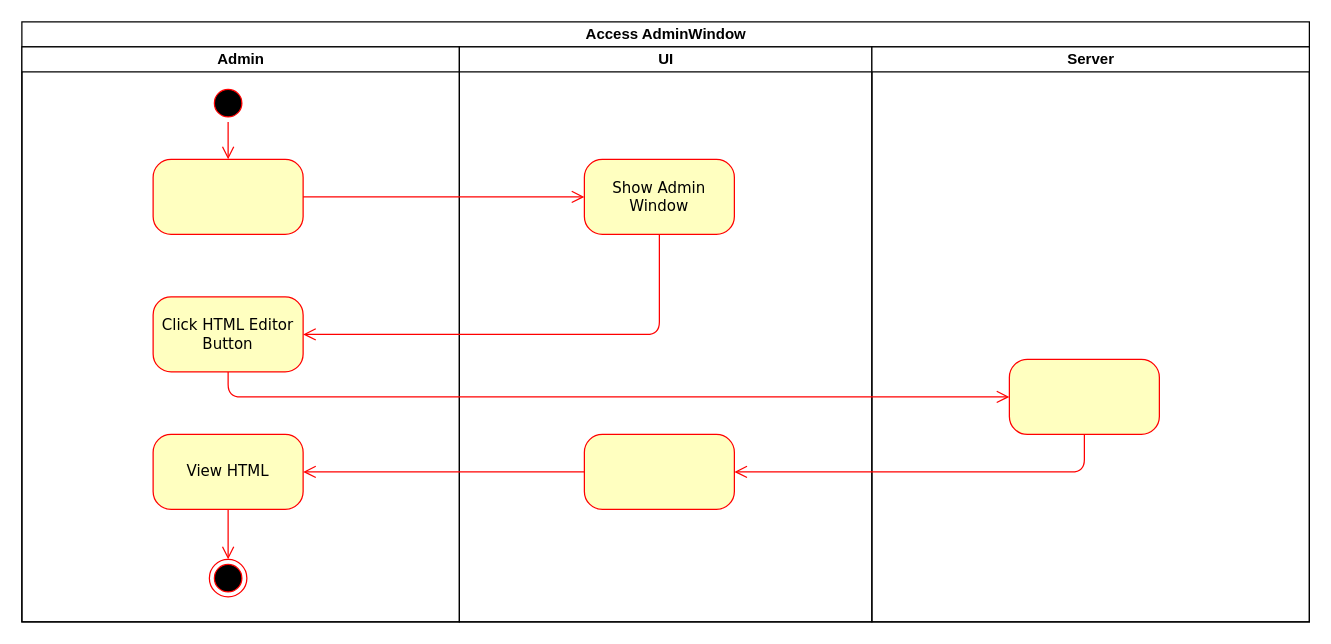
The diagram is 1331 pixels wide and 644 high, and some of its shapes have lost their labels. The box of each missing label's shape, as (x1, y1, x2, y2) in pixels:
Send HTML Source: (1008, 358, 1159, 434)
Show HTML: (583, 433, 734, 509)
View Admin Window: (152, 158, 303, 234)
